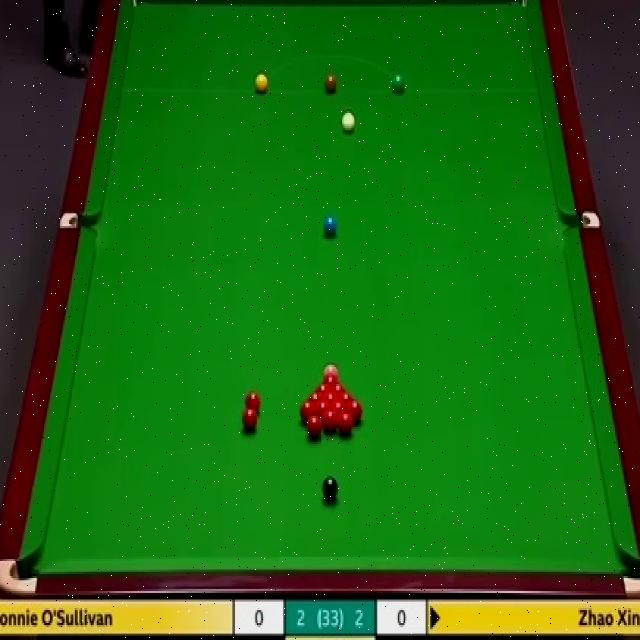black-ball: (322, 473, 338, 503)
blue-ball: (325, 216, 338, 239)
brown-ball: (326, 74, 338, 92)
green-ball: (392, 73, 405, 94)
pink-ball: (323, 359, 339, 378)
red-ball: (240, 408, 260, 434), (322, 409, 339, 434), (305, 416, 322, 441), (346, 400, 364, 422), (246, 390, 260, 418), (338, 414, 355, 436), (300, 400, 316, 422), (331, 402, 346, 420), (315, 400, 331, 416), (329, 384, 348, 395), (322, 392, 339, 403), (338, 392, 355, 403), (313, 384, 330, 394), (308, 393, 322, 404), (322, 374, 339, 383)
white-ball: (340, 110, 357, 135)
yellow-ball: (254, 71, 270, 94)
